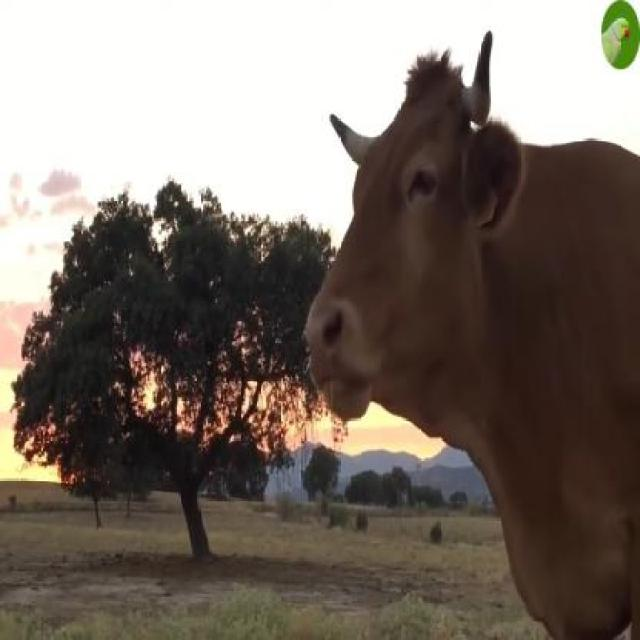Cow: (306, 29, 639, 638)
